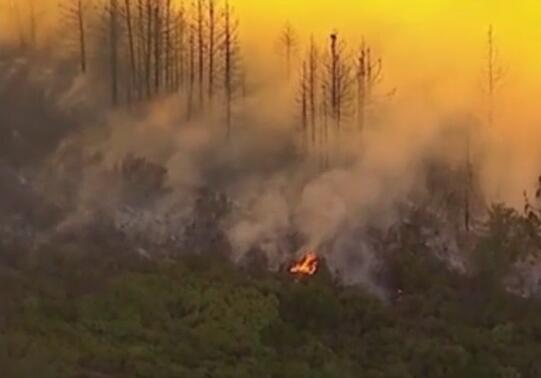fire: (289, 244, 321, 276)
yanwu: (3, 0, 541, 251)
